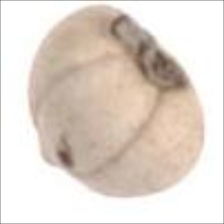L5: (34, 54, 162, 178), (110, 12, 192, 92)
L6: (27, 3, 206, 199)
